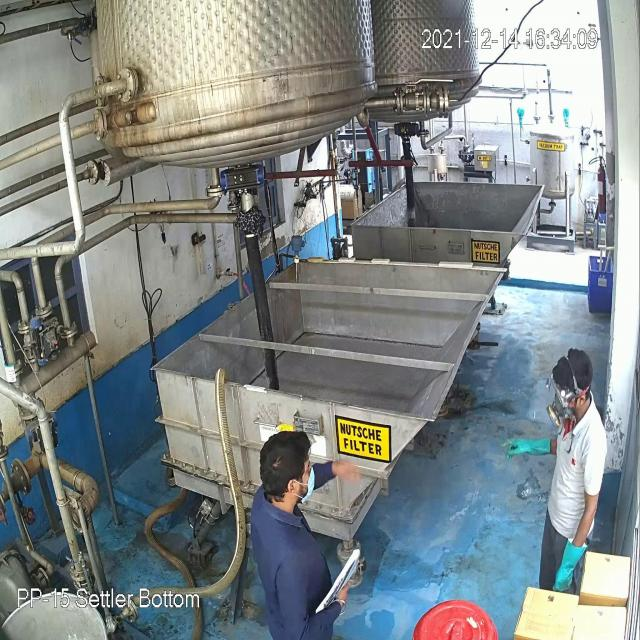Gloves: (506, 431, 554, 464)
